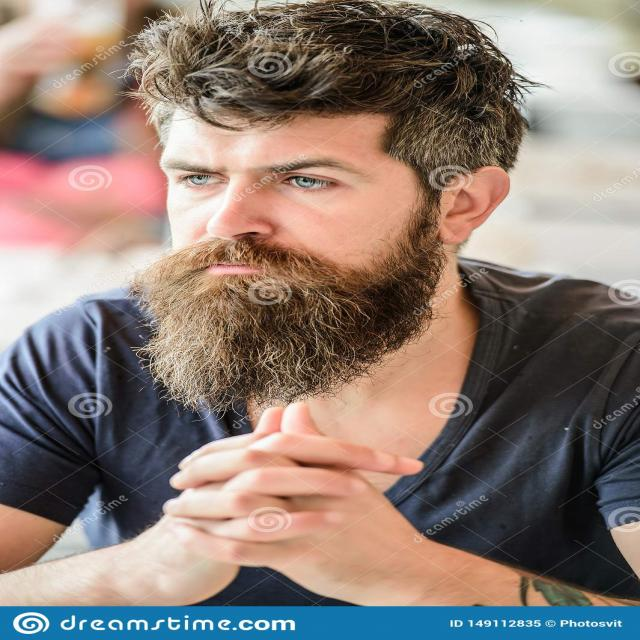beard: (130, 206, 445, 413)
hair: (128, 0, 534, 184)
